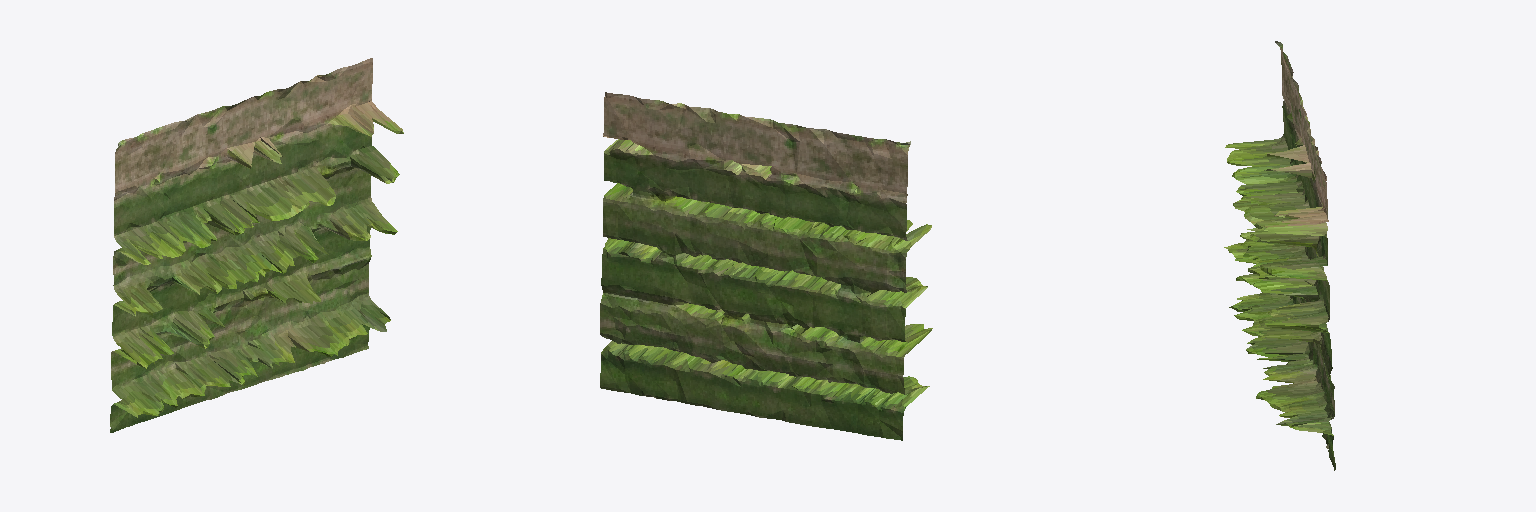
3 views of the same model, side by side, from view 1: azimuth 30°, elevation 25°; view 2: azimuth 150°, elevation 25°; view 3: azimuth 270°, elevation 25° (orthographic).
Parts seen in each view (by area): view 1: grp1; view 2: grp1; view 3: grp1.
Part boxes in pixels (x1,y1,x2,y2): grp1: (110, 58, 403, 432); grp1: (600, 92, 932, 440); grp1: (1224, 41, 1335, 470).
Bounding box in the file's own units: 10 × 10 × 3.46.
Materials: 1 (1 with a texture image).